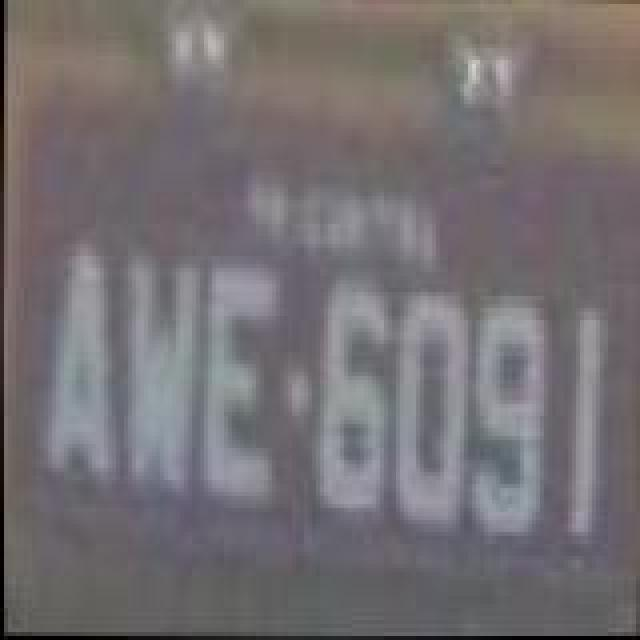1: (568, 310, 600, 538)
6: (314, 280, 390, 516)
9: (474, 298, 550, 546)
A: (40, 246, 124, 482)
E: (198, 260, 274, 500)
O: (392, 284, 472, 532)
W: (122, 258, 198, 498)
